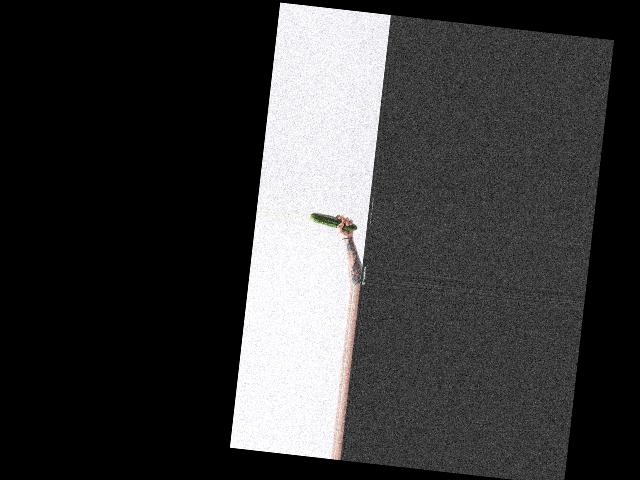cucumber: (308, 211, 358, 231)
